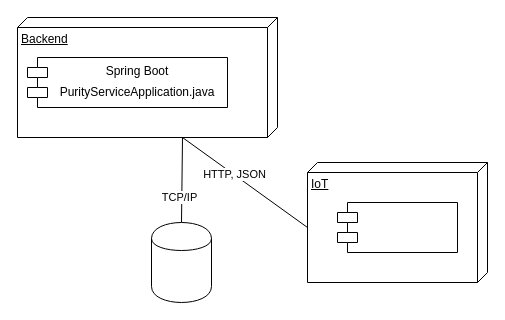
Image size: 505x320. Some labels were removed from this diagram. The centre of each missing label's shape, as x and y in pixels:
"Arduino Uno R3 purity_service.ino" belongs at point (397, 227).
"DB" belongs at point (181, 262).
